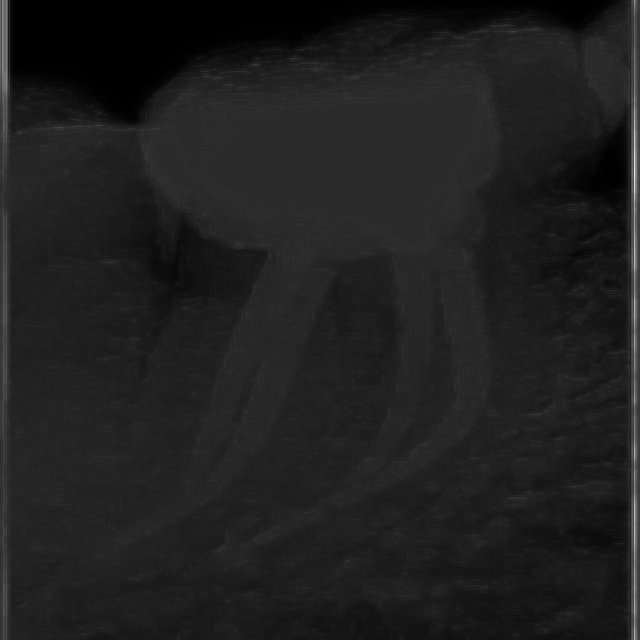Class 0- No endodontic treatment: (65, 36, 606, 583)
